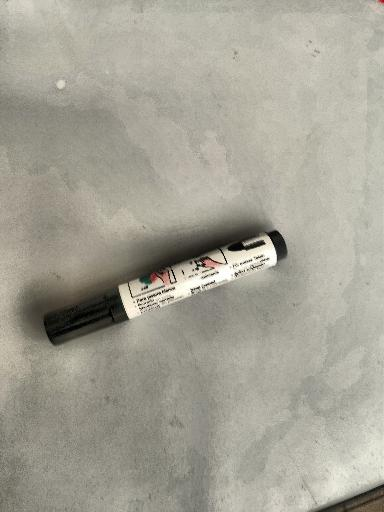marcador negro: (44, 231, 287, 345)
